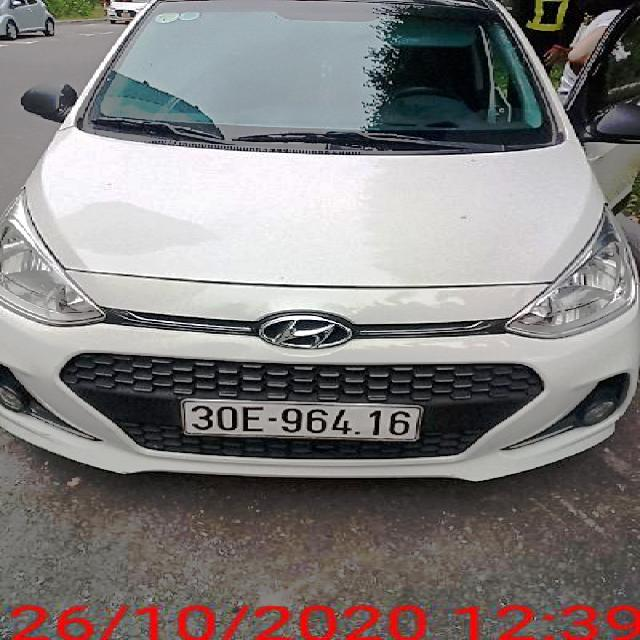license_plate: (183, 402, 422, 442)
